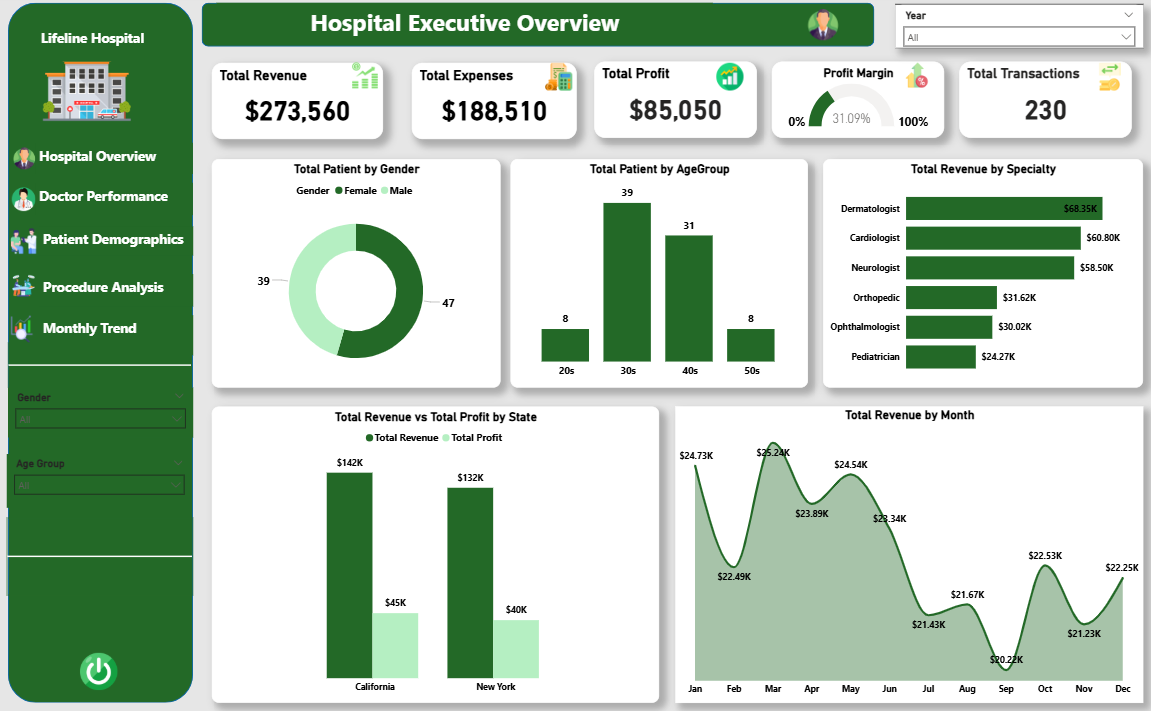

This screenshot's page, from the dashboard's own definition file:
{"tool":"powerbi","page":{"name":"Hospital","canvas":[1600,1000],"ordinal":0},"visuals":[{"type":"card","title":"Total Revenue","fields":{"Values":["Measure_Table.Total Revenue"]},"box":[295.4,95,236.7,105.4],"z":0},{"type":"card","title":"Total Profit","fields":{"Values":["Measure_Table.Total Profit"]},"box":[824.1,93.3,224.6,105.4],"z":1000},{"type":"card","title":"Total Expenses","fields":{"Values":["Measure_Table.Total Expenses"]},"box":[571.9,95,228.1,105.4],"z":2000},{"type":"gauge","fields":{"Y":["Measure_Table.Profit Margin"]},"box":[1069.5,93.3,238.4,105.4],"z":3000},{"type":"card","title":"Total Transactions","fields":{"Values":["Measure_Table.Total Transactions"]},"box":[1328.6,93.3,238.4,105.4],"z":4000},{"type":"donutChart","title":"Total Patient by Gender","fields":{"Category":["Dim_Patients_Table.Patients_Gender"],"Y":["Measure_Table.Total Patient"]},"box":[295.4,228.1,399.1,316.2],"z":5000},{"type":"clusteredBarChart","fields":{"Category":["Dim_Doctors_table.Specialty"],"Y":["Measure_Table.Total Revenue"]},"box":[1140.3,228.1,442.3,316.2],"z":6000},{"type":"clusteredColumnChart","title":"Total Patient by  AgeGroup","fields":{"Category":["Dim_Patients_Table.Age_Group"],"Y":["Measure_Table.Total Patient"]},"box":[708.4,228.1,411.2,316.2],"z":7000},{"type":"shape","box":[13.8,12.1,255.7,967.5],"z":8000},{"type":"shape","box":[281.6,12.1,929.5,60.5],"z":9000},{"type":"image","box":[974.4,95,74.3,38],"z":10000},{"type":"image","box":[482,93.3,50.1,38],"z":11000},{"type":"image","box":[749.8,95,50.1,38],"z":12000},{"type":"image","box":[1252.6,93.3,34.6,38],"z":13000},{"type":"image","box":[1510,95,53.6,38],"z":14000},{"type":"image","box":[20.7,205.6,31.1,43.2],"z":15000},{"type":"image","box":[1098.8,20.7,82.9,43.2],"z":16000},{"type":"image","box":[48.4,69.1,148.6,127.9],"z":17000},{"type":"textbox","box":[22.5,43.2,216,50.1],"z":18000},{"type":"lineChart","title":"Total Revenue by Month","fields":{"Category":["DateTable.Short Month"],"Y":["Measure_Table.Total Revenue"]},"box":[936.4,570.1,646.2,409.5],"z":19000},{"type":"image","box":[81.2,908.8,115.8,55.3],"z":20000},{"type":"image","box":[19,260.9,32.8,44.9],"z":21000},{"type":"image","box":[13.8,321.4,43.2,39.7],"z":22000},{"type":"image","box":[13.8,387,43.2,32.8],"z":23000},{"type":"image","box":[13.8,444,38,38],"z":24000},{"type":"clusteredColumnChart","title":"Total Revenue vs Total Profit by State","fields":{"Category":["Dim_Location_Table.State"],"Y":["Measure_Table.Total Revenue","Measure_Table.Total Profit"]},"box":[295.4,570.1,618.5,409.5],"z":25000},{"type":"shape","box":[1240.5,13.8,342.1,60.5],"z":26000},{"type":"textbox","box":[302.4,12.1,685.9,57],"z":27000},{"type":"textbox","box":[51.8,205.6,217.7,43.2],"z":28000},{"type":"textbox","box":[51.8,260.9,217.7,44.9],"z":29000},{"type":"textbox","box":[57,321.4,212.5,39.7],"z":30000},{"type":"textbox","box":[57,387,212.5,44.9],"z":31000},{"type":"textbox","box":[57,444,212.5,55.3],"z":32000},{"type":"shape","box":[13.8,482,254,62.2],"z":33000},{"type":"shape","box":[12.1,723.9,257.4,107.1],"z":34000},{"type":"slicer","fields":{"Values":["Dim_Patients_Table.Patients_Gender"]},"box":[13.8,544.2,255.7,69.1],"z":35000},{"type":"slicer","fields":{"Values":["Dim_Patients_Table.Age_Group"]},"box":[12.1,635.8,255.7,74.3],"z":36000},{"type":"slicer","fields":{"Values":["DateTable.Year"]},"box":[1240.5,15.5,342.1,58.7],"z":37000}]}

Visuals, with their boxes in screenshot pixels (x1, y1, x2, y2), scaled from the page's 1600x1000 canvas onto the 1151x711 screenshot:
"Total Revenue" card: 213 68 383 142
"Total Profit" card: 593 66 754 141
"Total Expenses" card: 411 68 576 142
gauge - Measure_Table.Profit Margin: 769 66 941 141
"Total Transactions" card: 956 66 1127 141
"Total Patient by Gender" donutChart: 213 162 500 387
clusteredBarChart - Dim_Doctors_table.Specialty x Measure_Table.Total Revenue: 820 162 1138 387
"Total Patient by  AgeGroup" clusteredColumnChart: 510 162 805 387
shape: 10 9 194 696
shape: 203 9 871 52
image: 701 68 754 95
image: 347 66 383 93
image: 539 68 575 95
image: 901 66 926 93
image: 1086 68 1125 95
image: 15 146 37 177
image: 790 15 850 45
image: 35 49 142 140
textbox: 16 31 172 66
"Total Revenue by Month" lineChart: 674 405 1138 696
image: 58 646 142 685
image: 14 185 37 217
image: 10 229 41 257
image: 10 275 41 298
image: 10 316 37 343
"Total Revenue vs Total Profit by State" clusteredColumnChart: 213 405 657 696
shape: 892 10 1138 53
textbox: 218 9 711 49
textbox: 37 146 194 177
textbox: 37 185 194 217
textbox: 41 229 194 257
textbox: 41 275 194 307
textbox: 41 316 194 355
shape: 10 343 193 387
shape: 9 515 194 591
slicer - Dim_Patients_Table.Patients_Gender: 10 387 194 436
slicer - Dim_Patients_Table.Age_Group: 9 452 193 505
slicer - DateTable.Year: 892 11 1138 53
